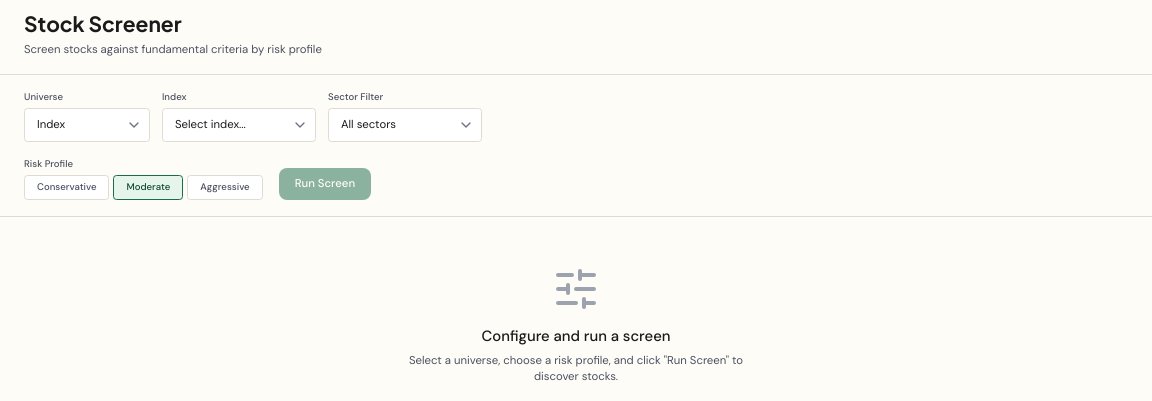
ScreenerPage › displays results table after screen
Select "IDX30" in the dropdown labelled "Index": (239, 125) [162,108,316,142]
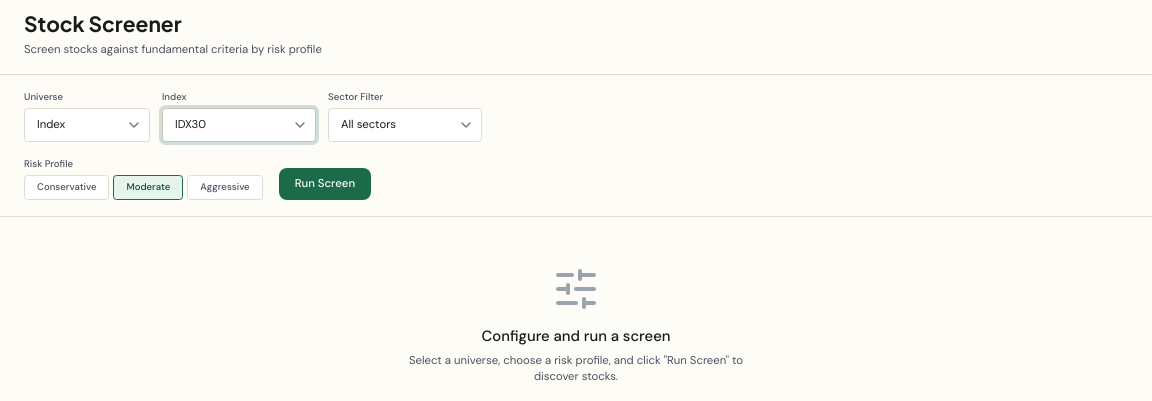
Click the button "Run Screen": (325, 184) [279,168,371,200]
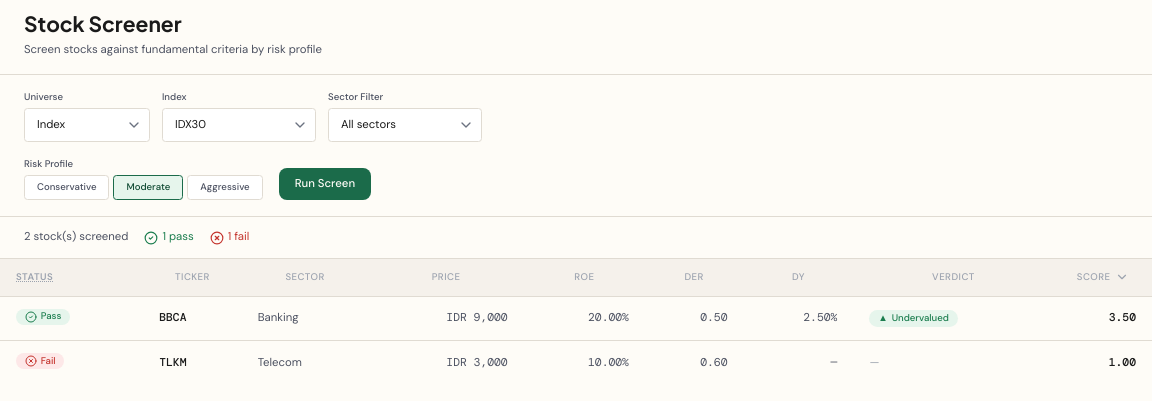
Now the text "BBCA" is shown, box [143,296,242,340]
Now the text "TLKM" is shown, box [143,340,242,384]
Now the text "2 stock(s) screened" is shown, box [24,230,128,246]
